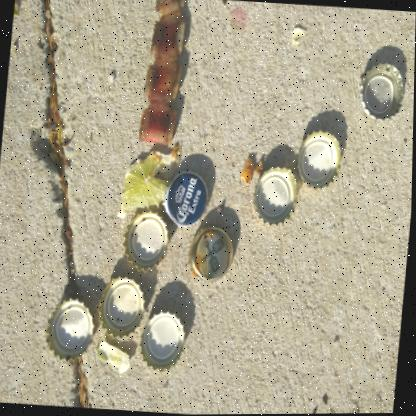Metal: (47, 297, 95, 362), (99, 275, 146, 338), (140, 310, 186, 372), (124, 210, 169, 271), (297, 130, 342, 190), (188, 224, 234, 282), (254, 166, 298, 226), (163, 169, 208, 227), (359, 62, 403, 120)
